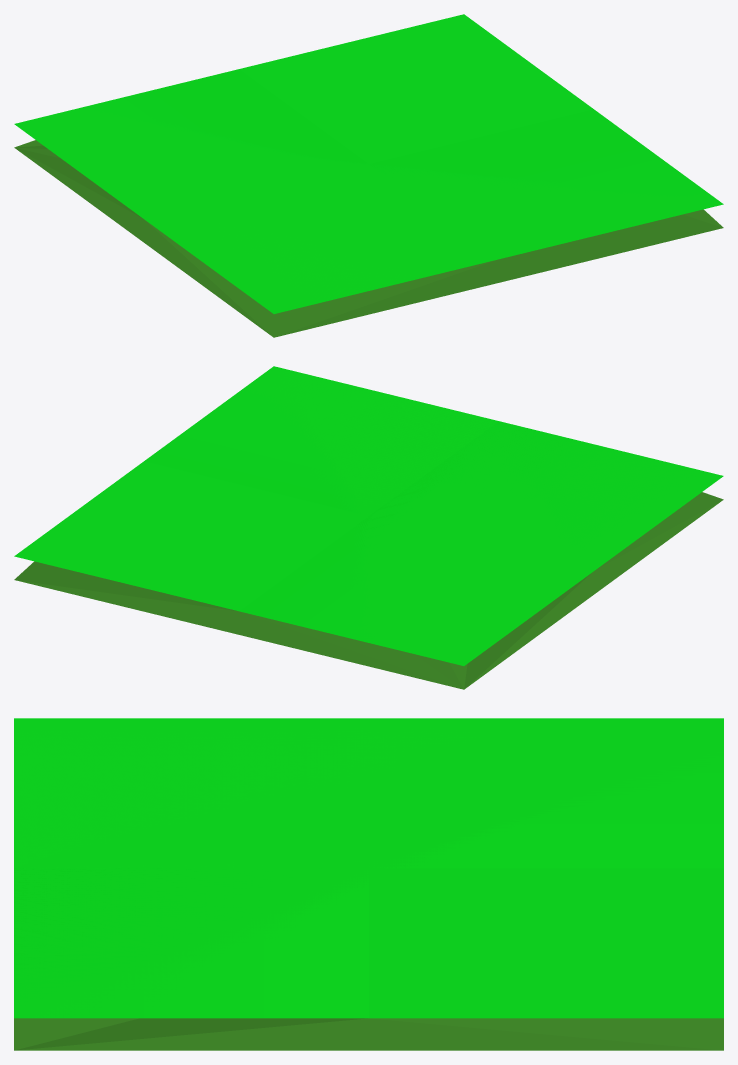
File: GroundModules_Trees.fbx
3 renders of one model, top to bottom at view 1: azimuth 30°, elevation 25°; view 2: azimuth 150°, elevation 25°; view 3: azimuth 270°, elevation 25°, orthographic. The views are drawn at different scales.
Parts seen in each view (by area): view 1: Grass, Trees_TreePass, Trees_InCorner, Trees_Half, Trees_GrassPass, Trees, Trees_Corner; view 2: Grass, Trees_TreePass, Trees_GrassPass, Trees_InCorner, Trees_Corner, Trees_Half; view 3: Grass, Trees_TreePass, Trees_InCorner, Trees_GrassPass, Trees_Half, Trees_Corner.
Boxes of the visible parts, <box> form: Grass: <box>147,14,722,312</box>; Trees_TreePass: <box>14,105,516,337</box>; Trees_InCorner: <box>82,69,723,205</box>; Trees_Half: <box>125,202,723,313</box>; Trees_GrassPass: <box>14,14,723,313</box>; Trees: <box>277,228,721,336</box>; Trees_Corner: <box>15,145,716,337</box>; Grass: <box>14,366,723,610</box>; Trees_TreePass: <box>14,419,723,665</box>; Trees_GrassPass: <box>16,425,721,689</box>; Trees_InCorner: <box>144,366,386,646</box>; Trees_Corner: <box>16,366,722,689</box>; Trees_Half: <box>356,422,722,589</box>; Grass: <box>14,718,723,1018</box>; Trees_TreePass: <box>21,718,723,1050</box>; Trees_InCorner: <box>25,745,723,1018</box>; Trees_GrassPass: <box>14,718,723,1050</box>; Trees_Half: <box>14,718,722,1050</box>; Trees_Corner: <box>14,868,322,1018</box>.
Bounding box in the file's own units: 200 × 10 × 200.
